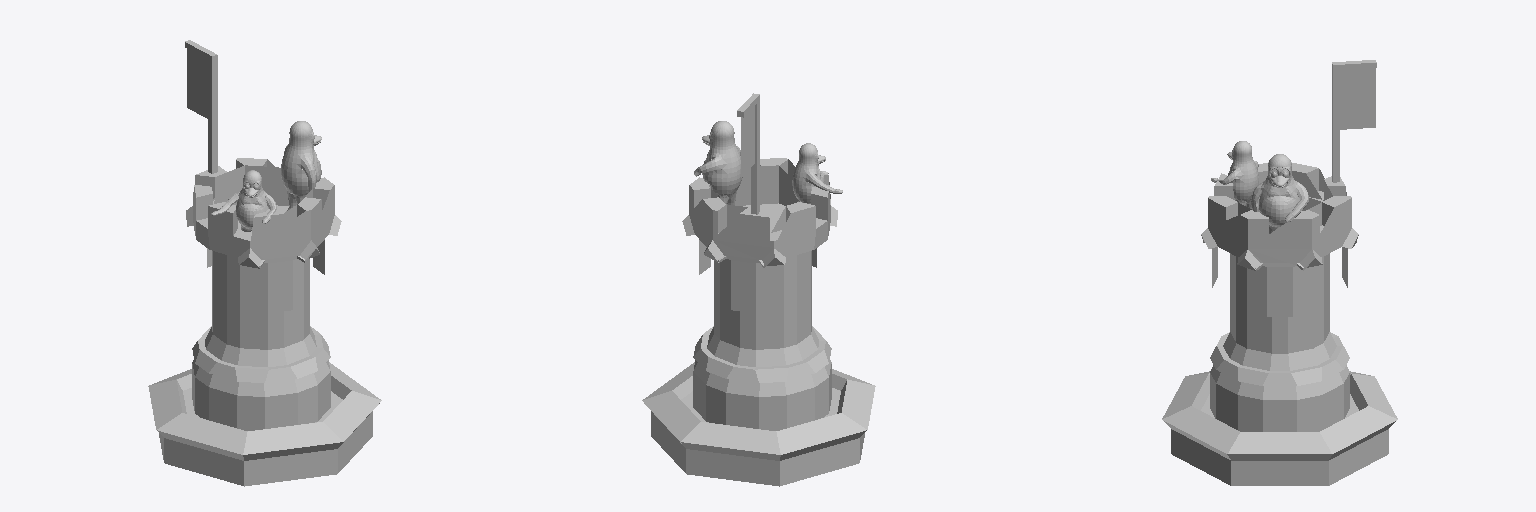
Rendered from Tux Rook.obj.
3 views of the same model, side by side, from view 1: azimuth 30°, elevation 25°; view 2: azimuth 150°, elevation 25°; view 3: azimuth 270°, elevation 25° (orthographic).
Visible parts, largest first — view 1: [MESH]_Tower_Circle.001; view 2: [MESH]_Tower_Circle.001; view 3: [MESH]_Tower_Circle.001.
Part boxes in pixels (x1,y1,x2,y2): [MESH]_Tower_Circle.001: (148,40,381,486); [MESH]_Tower_Circle.001: (642,93,875,486); [MESH]_Tower_Circle.001: (1162,60,1397,485).
Size of the model in its own units: 1.67 by 2.95 by 1.71.